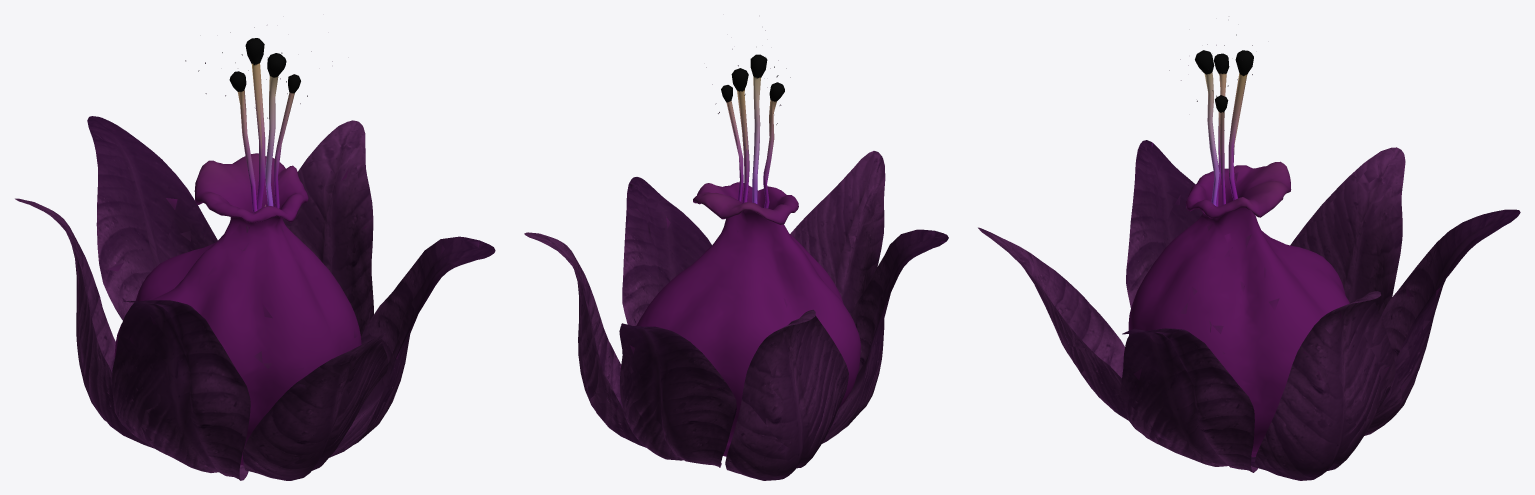
Rendered from LeuchtendePflanze-LP.fbx.
The picture shows the model from 3 angles, left to right: view 1: azimuth 30°, elevation 25°; view 2: azimuth 150°, elevation 25°; view 3: azimuth 270°, elevation 25°; orthographic projection. The views are drawn at different scales.
Parts seen in each view (by area): view 1: Pflanze.LP; view 2: Pflanze.LP; view 3: Pflanze.LP.
Boxes of the visible parts, left/top/right/bottom form: Pflanze.LP: left=15, top=27, right=495, bottom=480; Pflanze.LP: left=524, top=30, right=948, bottom=480; Pflanze.LP: left=978, top=34, right=1520, bottom=480.
Bounding box in the file's own units: 675 × 834 × 922.
1 material, 1 textured.
